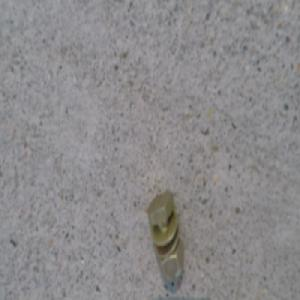BoltNutSet: (145, 186, 183, 278)
